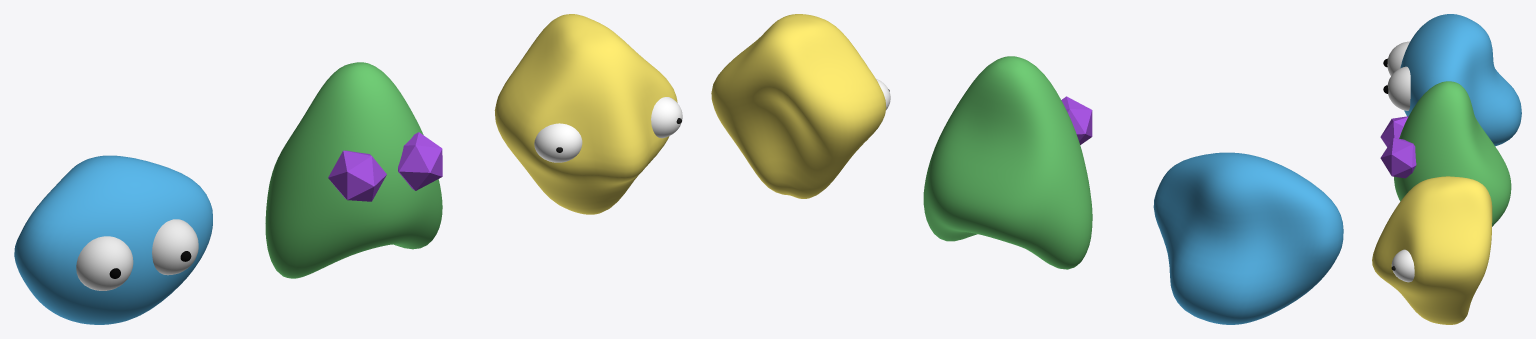
Rendered from Placeholders.fbx.
3 views of the same model, side by side, from view 1: azimuth 30°, elevation 25°; view 2: azimuth 150°, elevation 25°; view 3: azimuth 270°, elevation 25° (orthographic). The views are drawn at different scales.
Visible parts, largest first — view 1: Sphere, Sphere.002, Sphere.001, Sphere.003, Icosphere, Sphere.005, Icosphere.001, Sphere.008, Sphere.007; view 2: Sphere, Sphere.001, Sphere.002, Icosphere; view 3: Sphere.002, Sphere.001, Sphere, Icosphere.001, Sphere.005, Sphere.007, Icosphere, Sphere.003.
Boxes of the visible parts, x1=… form: Sphere: x1=265, y1=62, x2=442, y2=278; Sphere.002: x1=494, y1=14, x2=677, y2=214; Sphere.001: x1=14, y1=155, x2=212, y2=324; Sphere.003: x1=76, y1=236, x2=133, y2=290; Icosphere: x1=328, y1=150, x2=386, y2=201; Sphere.005: x1=152, y1=219, x2=198, y2=275; Icosphere.001: x1=398, y1=132, x2=442, y2=190; Sphere.008: x1=534, y1=123, x2=582, y2=162; Sphere.007: x1=651, y1=97, x2=682, y2=138; Sphere: x1=923, y1=56, x2=1092, y2=269; Sphere.001: x1=1153, y1=152, x2=1343, y2=324; Sphere.002: x1=711, y1=14, x2=886, y2=198; Icosphere: x1=1061, y1=96, x2=1092, y2=144; Sphere.002: x1=1372, y1=176, x2=1492, y2=324; Sphere.001: x1=1400, y1=14, x2=1521, y2=146; Sphere: x1=1394, y1=81, x2=1511, y2=226; Icosphere.001: x1=1380, y1=138, x2=1416, y2=178; Sphere.005: x1=1387, y1=66, x2=1410, y2=110; Sphere.007: x1=1391, y1=249, x2=1414, y2=282; Icosphere: x1=1380, y1=116, x2=1408, y2=147; Sphere.003: x1=1387, y1=41, x2=1409, y2=75.
Bounding box in the file's own units: 802 × 238 × 209.
